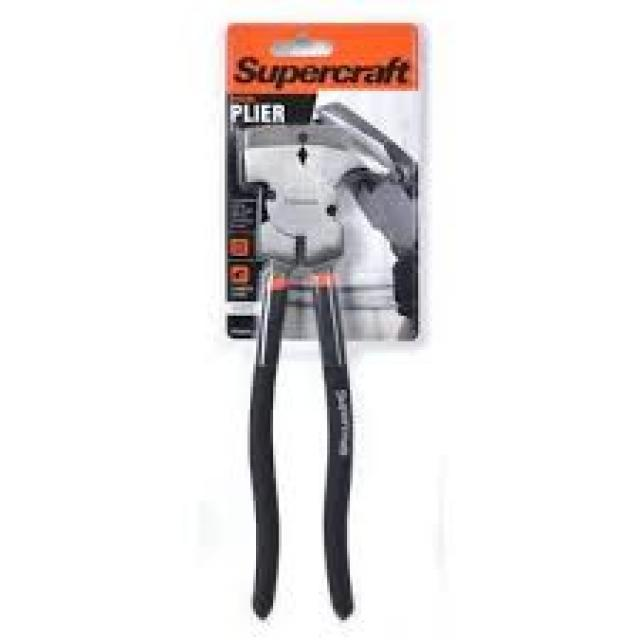pliers: (223, 110, 387, 632)
